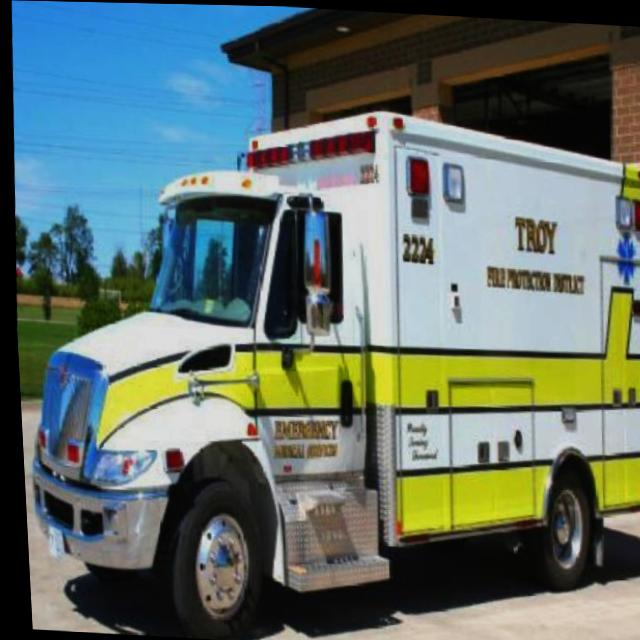emergency: (7, 87, 640, 640)
